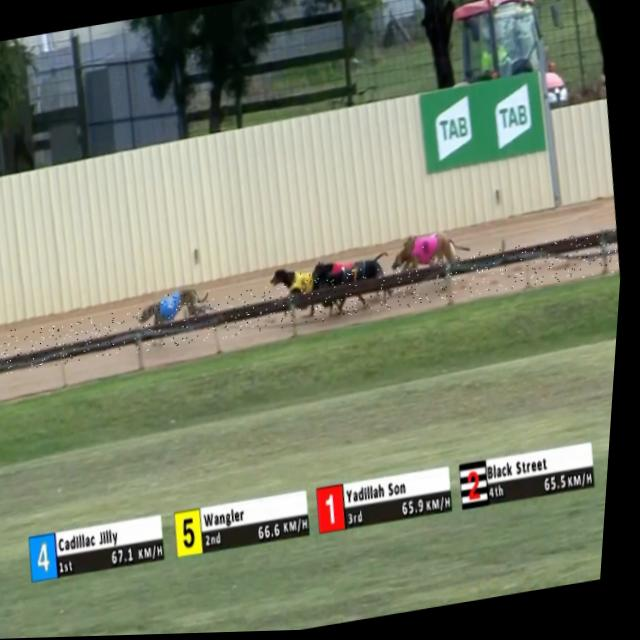dog_eight: (417, 237, 443, 270)
dog_five: (294, 273, 320, 306)
dog_four: (162, 291, 191, 325)
dog_one: (334, 262, 360, 281)
dog_seven: (347, 266, 370, 288)
rail: (0, 233, 622, 376)
